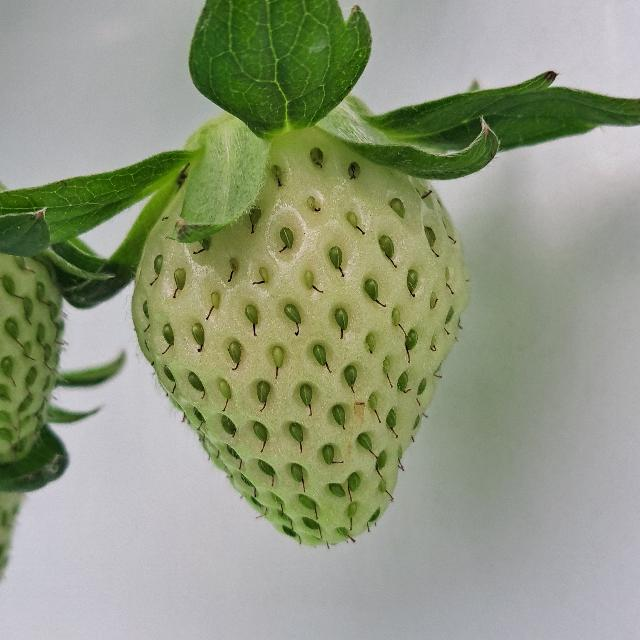Health_25: (130, 127, 470, 546)
